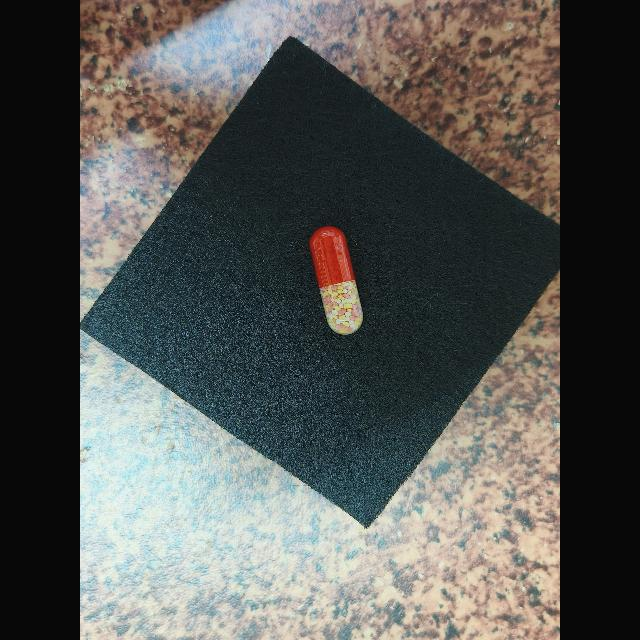Intact Capsule: (309, 226, 363, 335)
